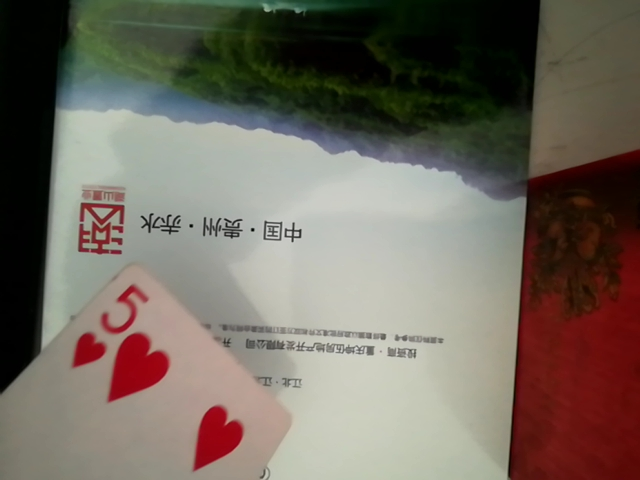hx 5: (6, 204, 305, 475)
